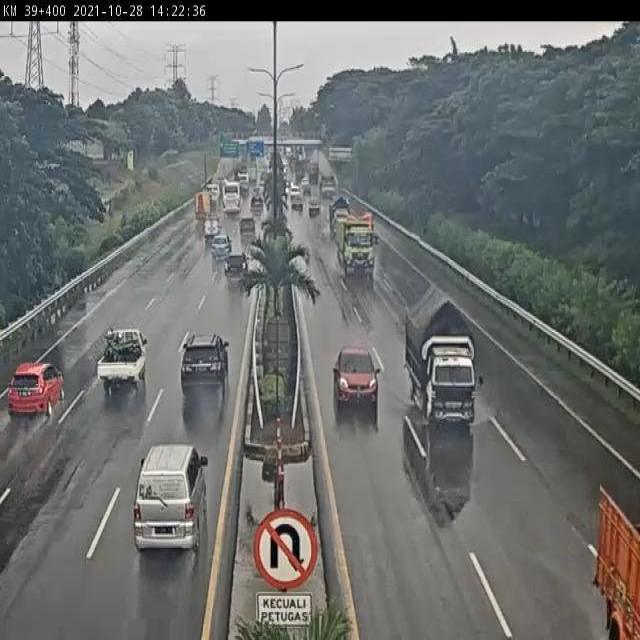car: (133, 444, 210, 553), (2, 360, 65, 421), (96, 325, 150, 392), (328, 344, 382, 411), (177, 333, 232, 395), (222, 251, 251, 281), (209, 235, 235, 264)
truck-l-: (334, 215, 375, 277)
truck-m-: (402, 283, 481, 428)
